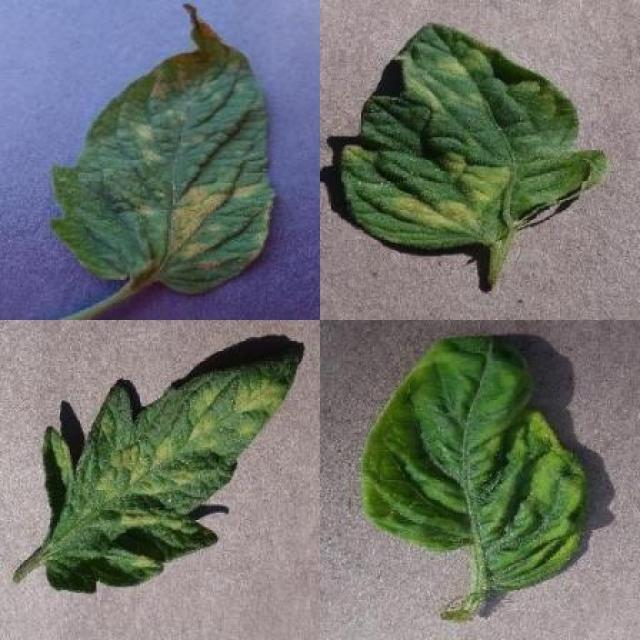Leaf Mold: (49, 4, 277, 295), (44, 349, 302, 594), (341, 21, 606, 252)
Yellow Leaf Curl Virus: (357, 332, 586, 592)
